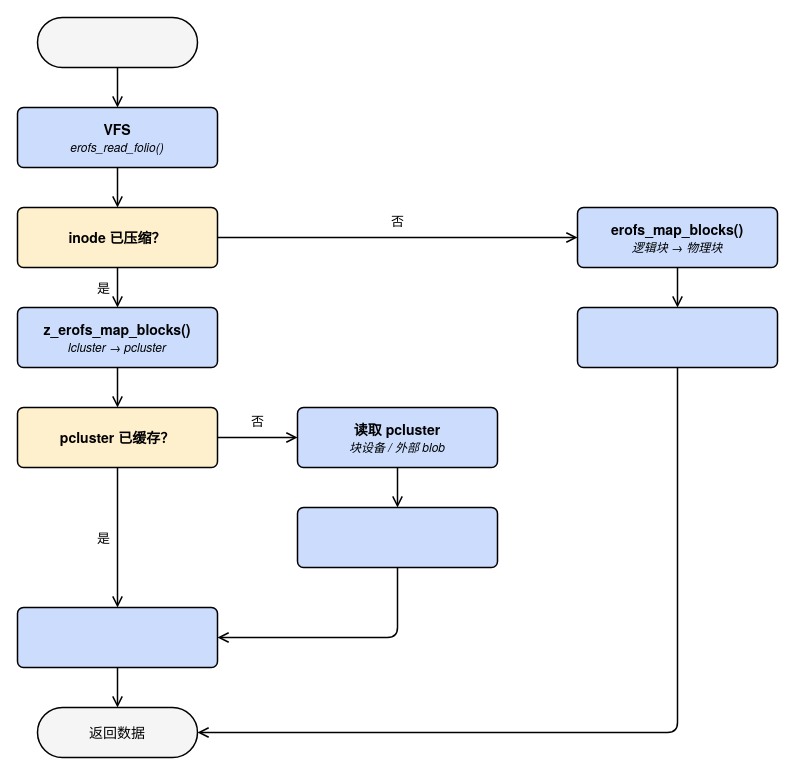
The diagram is 796 pixels wide and 776 high, and some of its shapes have lost their labels. The shapes that lost their labels are listed below. From the top down, each one's centre as x and y in pixels, then its label:
At [117,42]: "read(fd, buf, len)".
At [677,337]: "bdev 直接读块".
At [397,537]: "解压 LZ4 · LZMA · DEFLATE · ZSTD".
At [117,637]: "填充 page cache".
